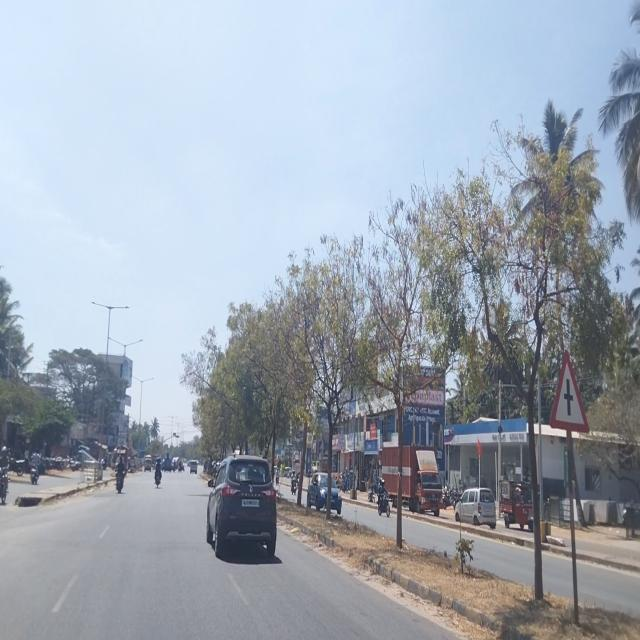bien_cam: (550, 347, 590, 436)
